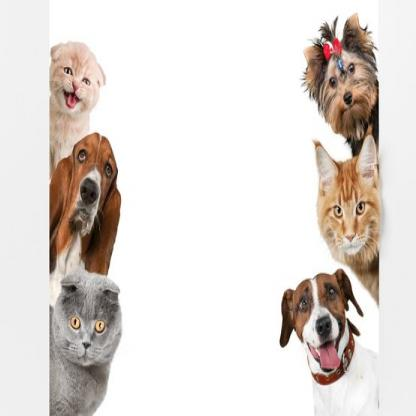cat: (302, 131, 401, 258), (53, 270, 148, 394), (50, 35, 129, 129)
dog: (266, 270, 373, 394), (51, 140, 158, 256), (286, 26, 402, 130), (50, 35, 129, 130)
